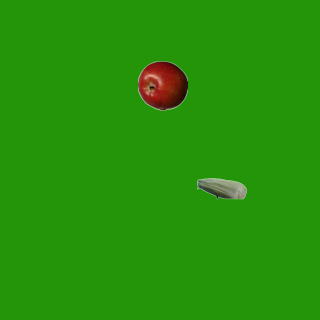Apple Braeburn: (137, 60, 187, 110)
Corn Husk: (196, 163, 246, 213)
